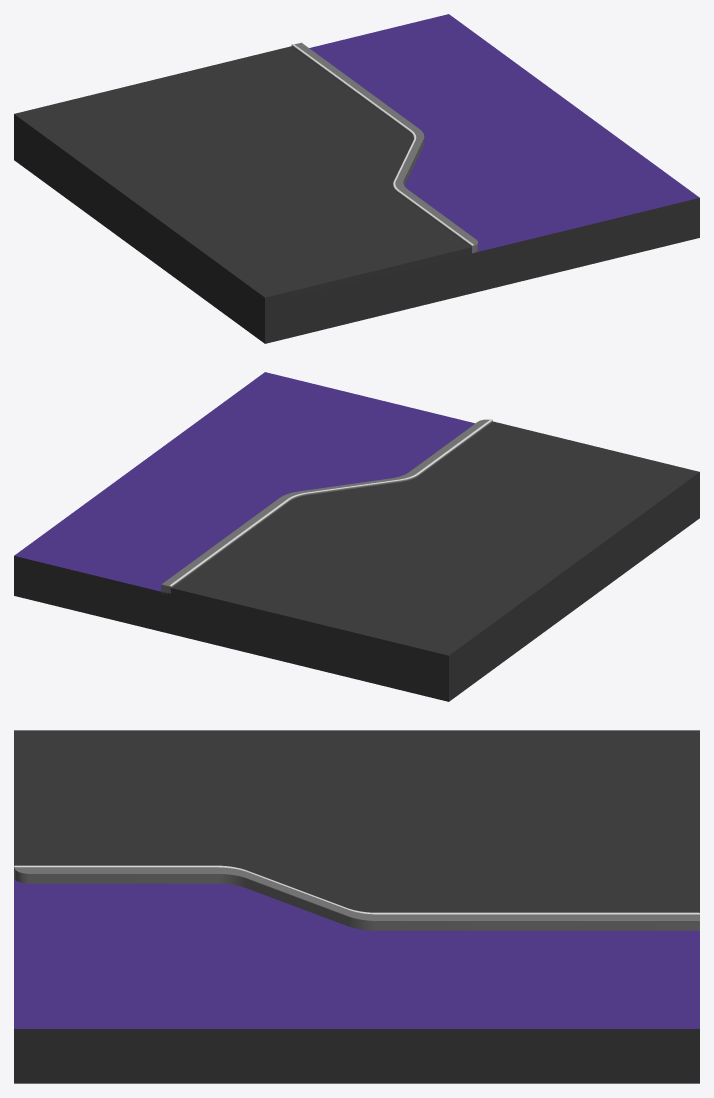
The model's file is curb_3_dip_end.fbx.
3 renders of one model, top to bottom at view 1: azimuth 30°, elevation 25°; view 2: azimuth 150°, elevation 25°; view 3: azimuth 270°, elevation 25°, orthographic. The views are drawn at different scales.
Visible parts, largest first — view 1: Ground 3 - Dip End, Ground Riser.006, Curb.008, Curb Light.006; view 2: Ground 3 - Dip End, Ground Riser.006, Curb.008, Curb Light.006; view 3: Ground 3 - Dip End, Ground Riser.006, Curb.008, Curb Light.006.
Part boxes in pixels (<box>): Ground 3 - Dip End: <box>14,14,699,343</box>; Ground Riser.006: <box>14,46,471,303</box>; Curb.008: <box>291,42,477,253</box>; Curb Light.006: <box>291,44,473,245</box>; Ground 3 - Dip End: <box>14,372,699,701</box>; Ground Riser.006: <box>167,421,699,661</box>; Curb.008: <box>161,419,492,594</box>; Curb Light.006: <box>169,419,492,586</box>; Ground 3 - Dip End: <box>14,878,699,1083</box>; Ground Riser.006: <box>14,730,699,912</box>; Curb.008: <box>14,867,699,930</box>; Curb Light.006: <box>14,865,699,914</box>.
Size of the model in its own units: 800 by 85.12 by 800.
